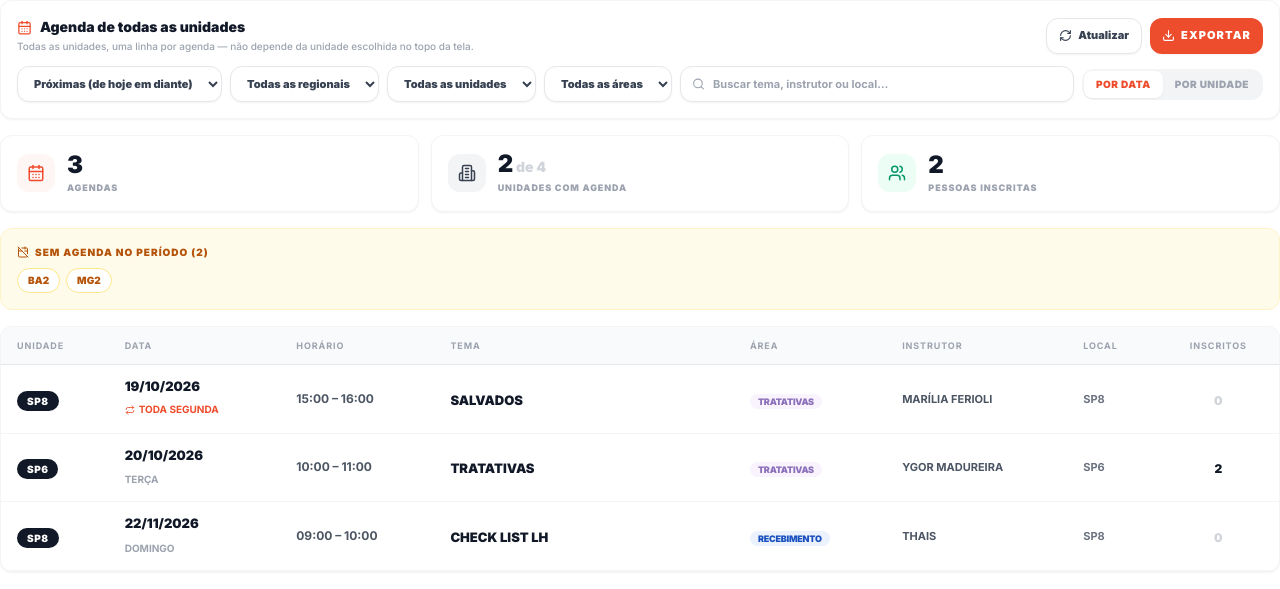
Test case: AgendaGeral › "Já realizadas" troca a lista para o que passou
The width and height of the screenshot is (1280, 589).
Select "Já realizadas" in the dropdown named "Período" at (120, 84), box [17,66,222,102]
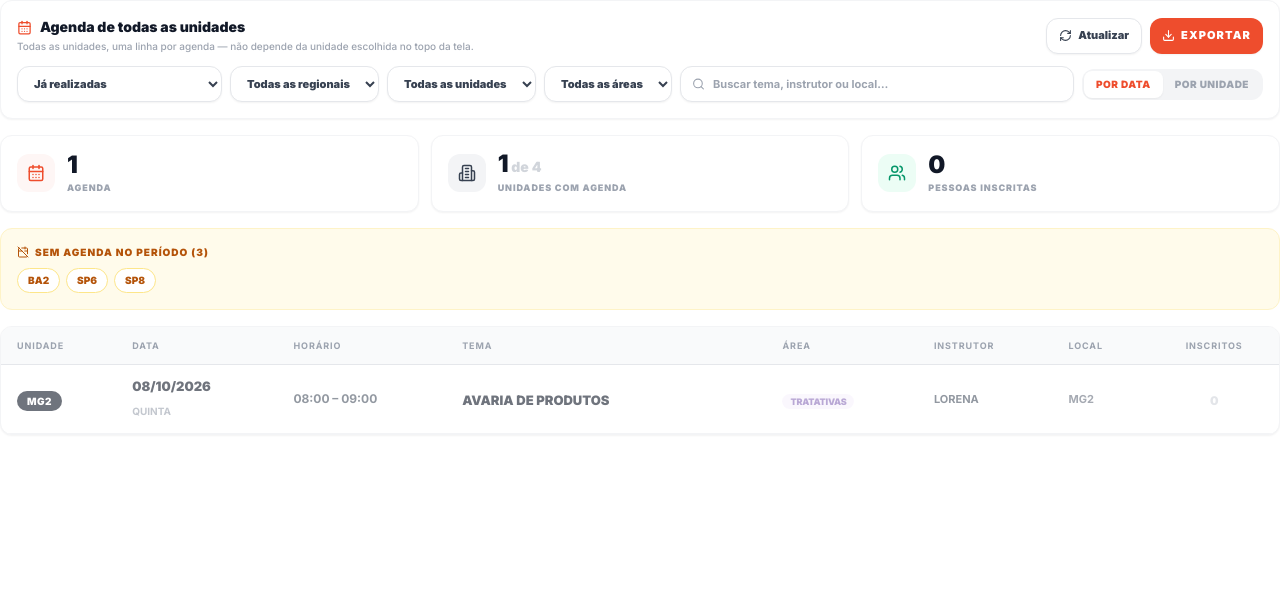
expect the row that starts with "MG2" is shown: met, box [27,395,52,407]
expect the row that starts with "MG2" shows "08/10/2026": met, box [132,378,211,394]
